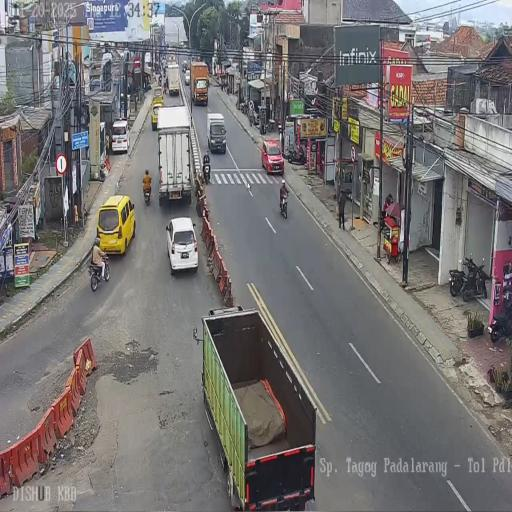3: (201, 304, 314, 512), (156, 106, 195, 206), (190, 61, 209, 106), (166, 64, 180, 97), (182, 60, 188, 73)
car: (96, 194, 136, 255), (165, 216, 198, 274), (261, 138, 284, 176), (207, 112, 226, 152), (110, 119, 130, 154), (151, 88, 165, 130), (184, 70, 190, 86), (161, 57, 167, 71)
truck: (461, 255, 488, 302), (489, 292, 512, 342), (89, 251, 110, 291), (284, 143, 306, 165), (248, 100, 258, 126), (279, 191, 288, 219), (143, 180, 151, 204), (203, 161, 211, 184), (240, 98, 249, 116), (158, 74, 162, 86)
